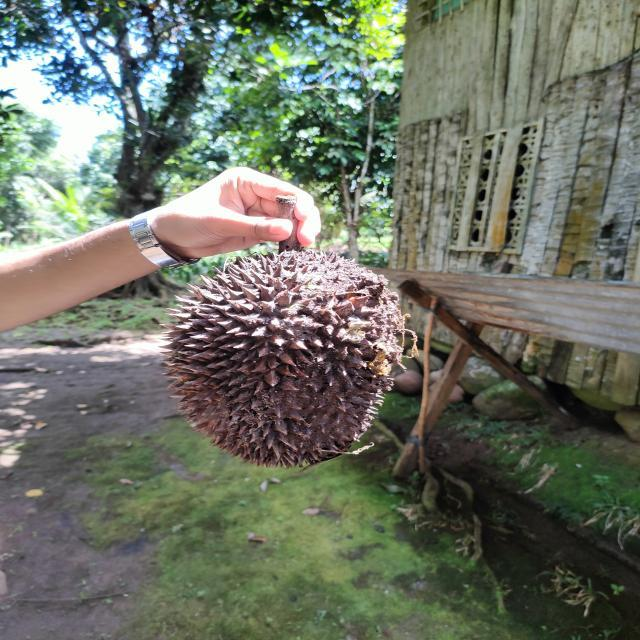defective: (156, 249, 410, 471)
